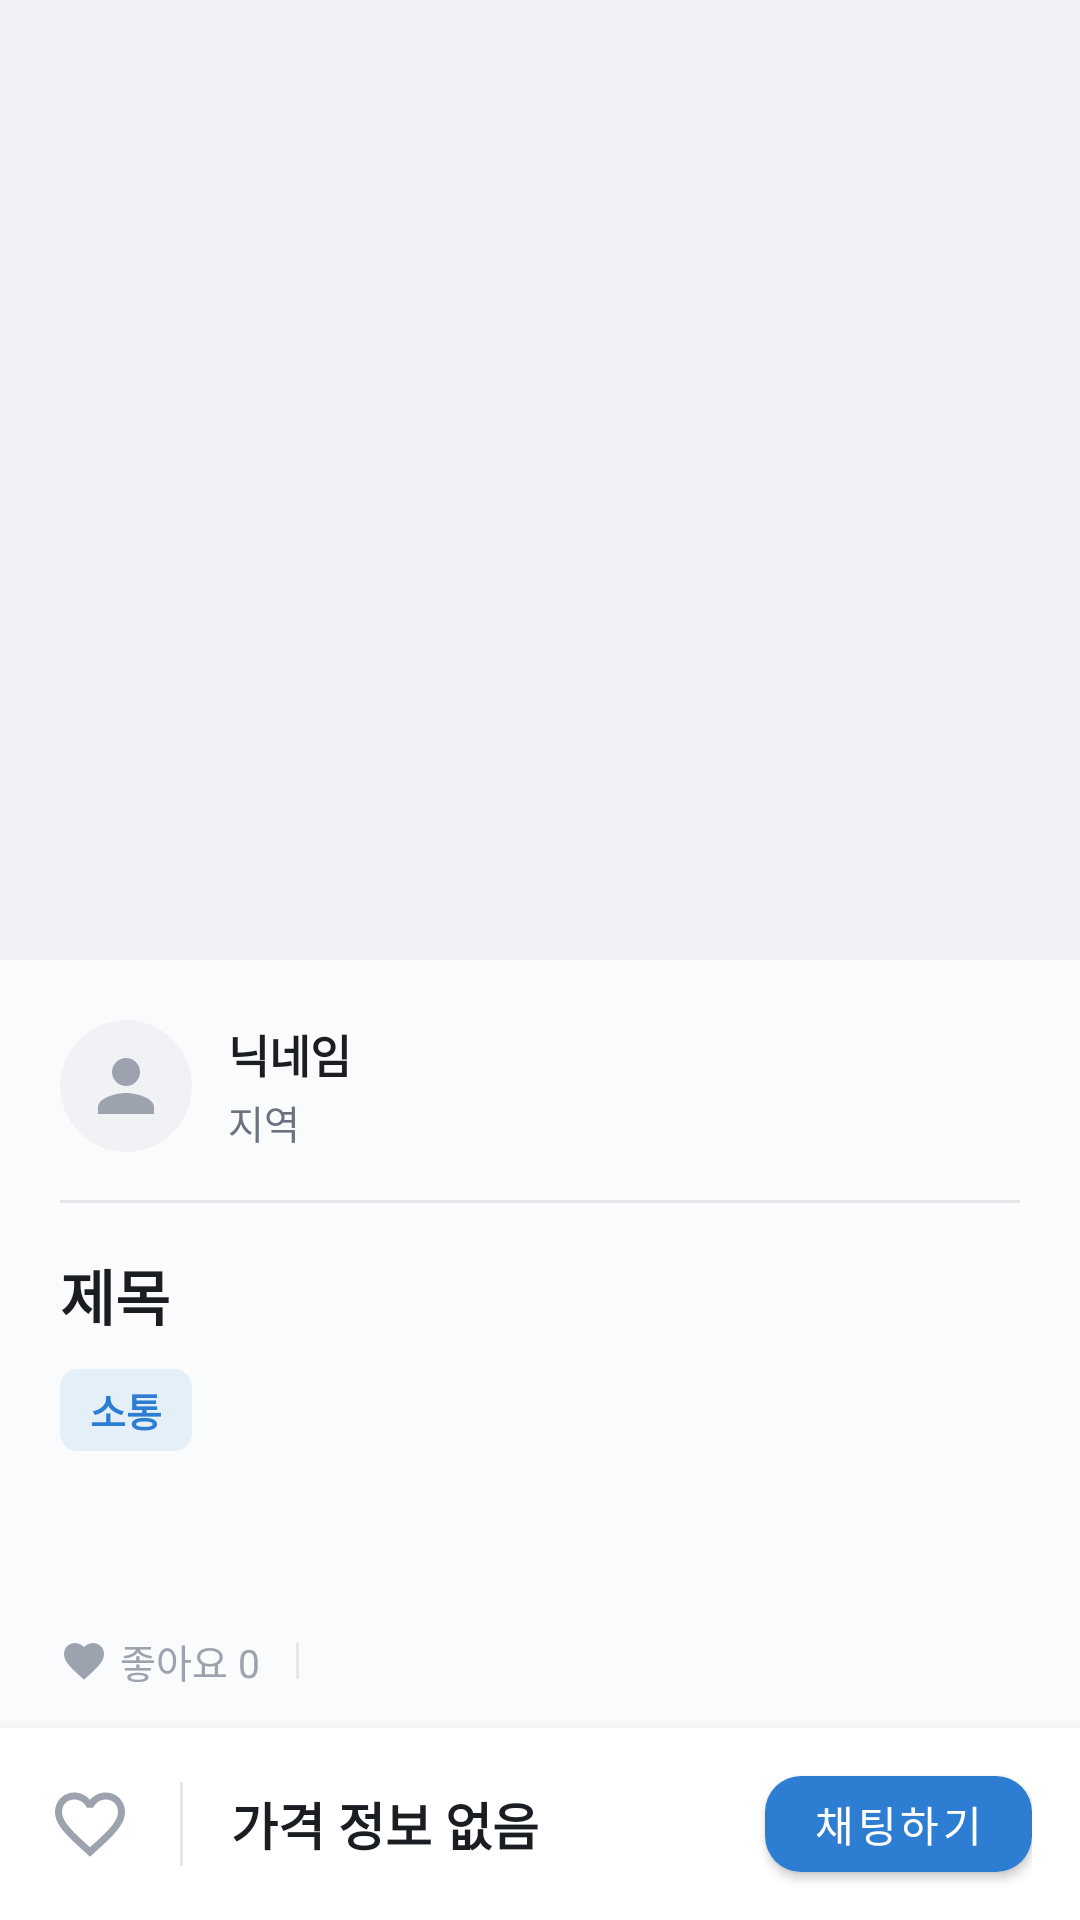

Screen size 1080 x 1920. Icon name, then its center in pixels as point (x, y):
좋아요 버튼: point (90, 1824)
좋아요 수: point (84, 1661)
프로필 아이콘: point (126, 1086)
